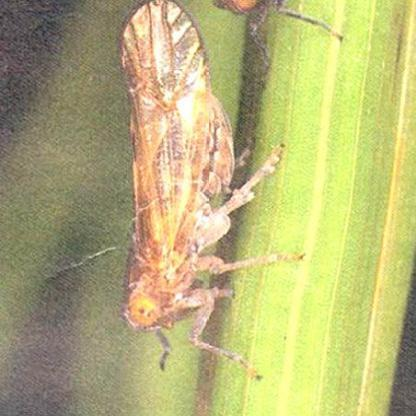brown-planthopper: (118, 0, 237, 335)
